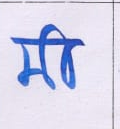i_matra: (48, 24, 79, 88)
